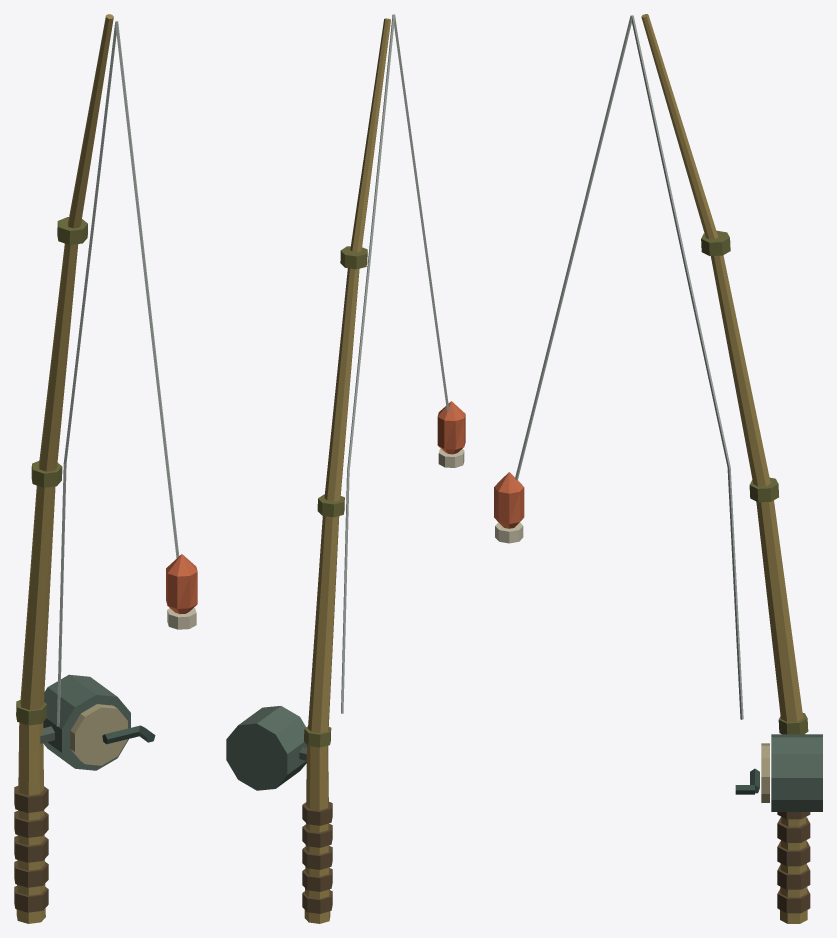
File: rod_basic.glb
The picture shows the model from 3 angles, left to right: view 1: azimuth 30°, elevation 25°; view 2: azimuth 150°, elevation 25°; view 3: azimuth 270°, elevation 25°; orthographic projection. The views are drawn at different scales.
Visible parts, largest first — view 1: rod_basic; view 2: rod_basic; view 3: rod_basic.
Boxes of the visible parts, x1=… form: rod_basic: x1=14, y1=14, x2=197, y2=923; rod_basic: x1=226, y1=14, x2=465, y2=923; rod_basic: x1=494, y1=14, x2=822, y2=923.
Bounding box in the file's own units: 0.1836 × 1.54 × 0.5084.
